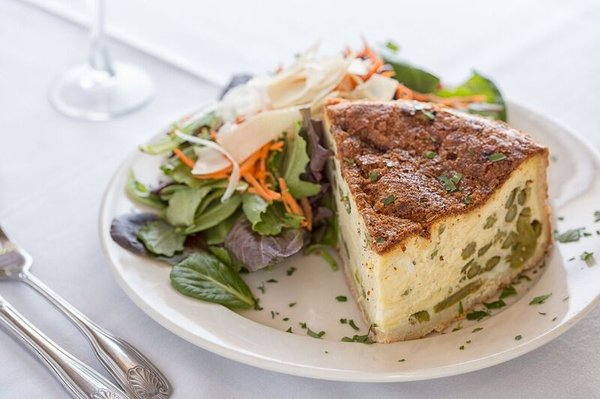burger: (0, 223, 173, 396)
sandwich: (0, 224, 174, 397)
soup: (324, 98, 554, 344)
